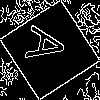A: (25, 25, 76, 68)
